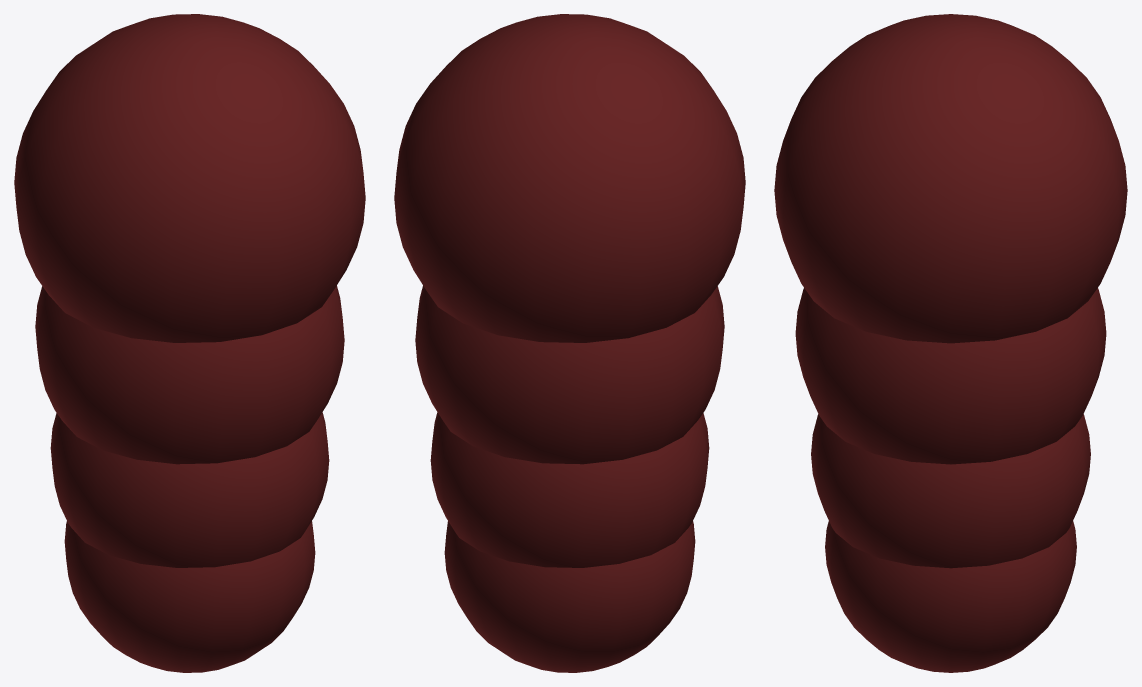
The model's file is House9.fbx.
3 views of the same model, side by side, from view 1: azimuth 30°, elevation 25°; view 2: azimuth 150°, elevation 25°; view 3: azimuth 270°, elevation 25° (orthographic).
Parts seen in each view (by area): view 1: House9Ball4, House9Ball3, House9Ball2, House9Ball1; view 2: House9Ball4, House9Ball3, House9Ball2, House9Ball1; view 3: House9Ball4, House9Ball3, House9Ball2, House9Ball1.
Part boxes in pixels (x1,y1,x2,y2): House9Ball4: (14,14,365,342); House9Ball3: (35,285,344,464); House9Ball2: (50,412,329,567); House9Ball1: (64,521,315,672); House9Ball4: (394,14,745,342); House9Ball3: (415,285,724,464); House9Ball2: (430,412,709,567); House9Ball1: (444,521,695,672); House9Ball4: (774,14,1127,343); House9Ball3: (795,288,1106,464); House9Ball2: (811,414,1090,568); House9Ball1: (825,521,1076,672).
Bounding box in the file's own units: 28.52 × 56.21 × 28.52.
